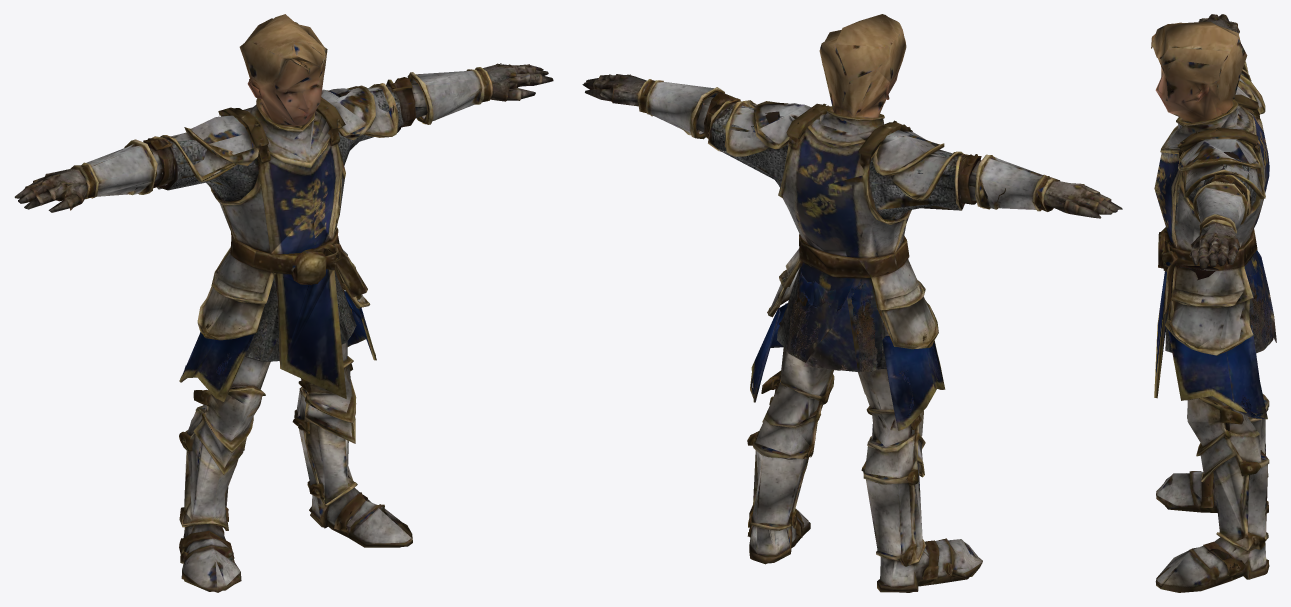
Rendered from parkerKnightFinal.glb.
3 renders of one model, left to right at view 1: azimuth 30°, elevation 25°; view 2: azimuth 150°, elevation 25°; view 3: azimuth 270°, elevation 25°, orthographic. The views are drawn at different scales.
Parts seen in each view (by area): view 1: world; view 2: world; view 3: world.
Boxes of the visible parts, <box> form: world: <box>14,14,553,592</box>; world: <box>582,14,1122,592</box>; world: <box>1151,14,1276,592</box>.
Size of the model in its own units: 0.998 by 0.9559 by 0.2117.
Materials: 1 (1 with a texture image).
